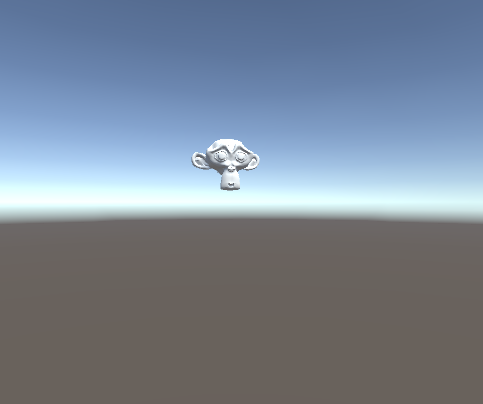monkey: (191, 137, 259, 192)
